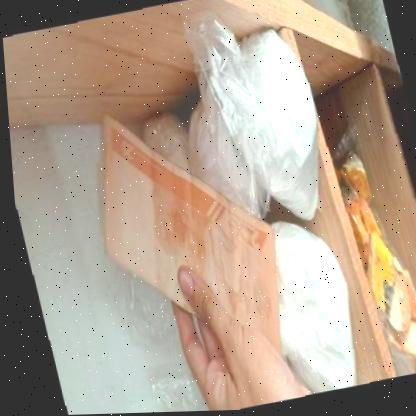twenty-back-vef: (68, 84, 299, 385)
